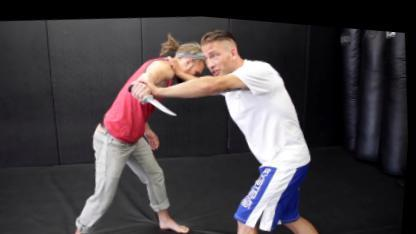knife: (124, 74, 184, 122)
